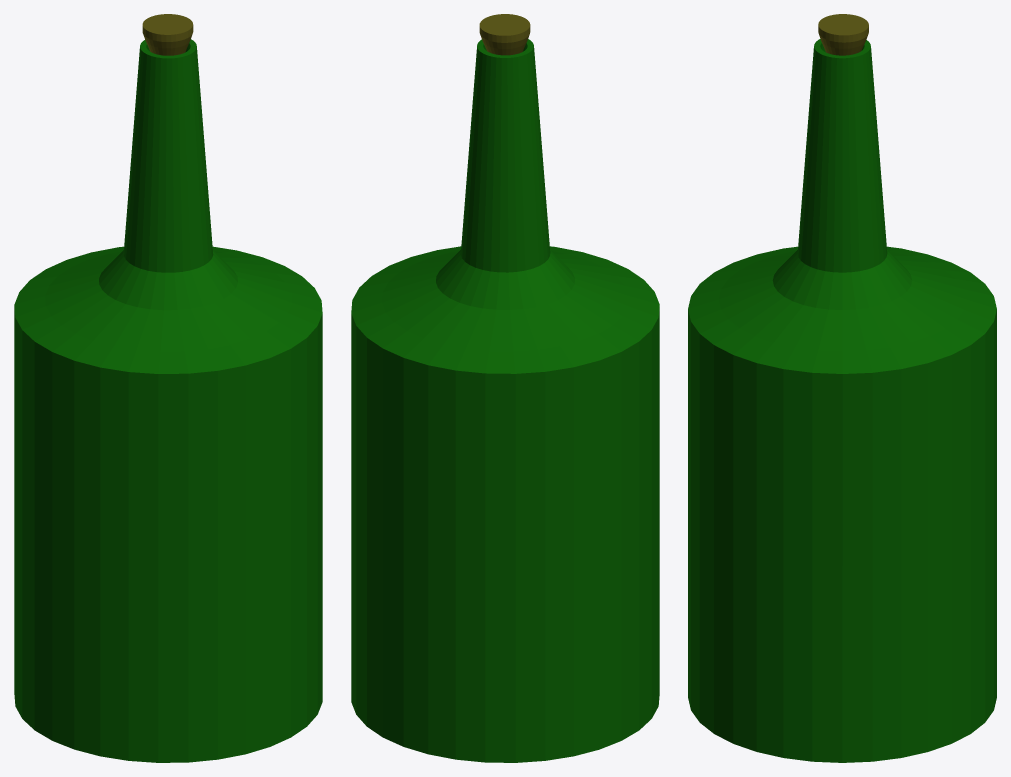
The model's file is бутылка.fbx.
3 views of the same model, side by side, from view 1: azimuth 30°, elevation 25°; view 2: azimuth 150°, elevation 25°; view 3: azimuth 270°, elevation 25° (orthographic).
Visible parts, largest first — view 1: Cylinder, Cylinder.001; view 2: Cylinder, Cylinder.001; view 3: Cylinder, Cylinder.001.
Boxes of the visible parts, x1=… form: Cylinder: x1=14, y1=39, x2=322, y2=762; Cylinder.001: x1=142, y1=14, x2=193, y2=55; Cylinder: x1=351, y1=39, x2=659, y2=762; Cylinder.001: x1=479, y1=14, x2=530, y2=55; Cylinder: x1=688, y1=39, x2=996, y2=762; Cylinder.001: x1=818, y1=14, x2=868, y2=55.
Size of the model in its own units: 200 by 481 by 200.
